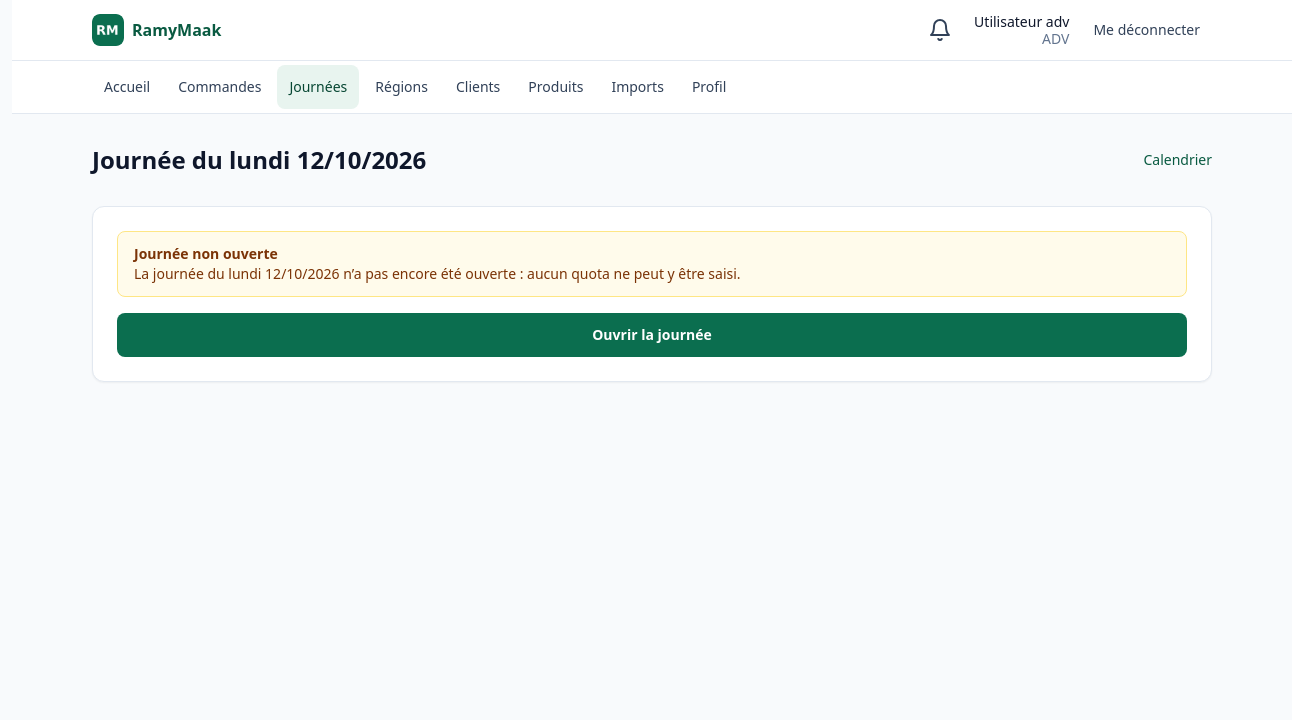
Test case: ADV — business day page › offers to open a day that is not opened yet, then shows its matrix
The width and height of the screenshot is (1292, 720).
Expected: the text "Journée non ouverte" is shown, [134,244,278,263]
Expected: the heading "Journée du lundi 12/10/2026" is shown, [92,144,426,176]
What coordinates should you click on to do the following:
click the button with aria-label "Ouvrir la journée du lundi 12/10/2026"
I would click on:
 (652, 335)
Its box is [117,313,1187,357].
(page scrolled)
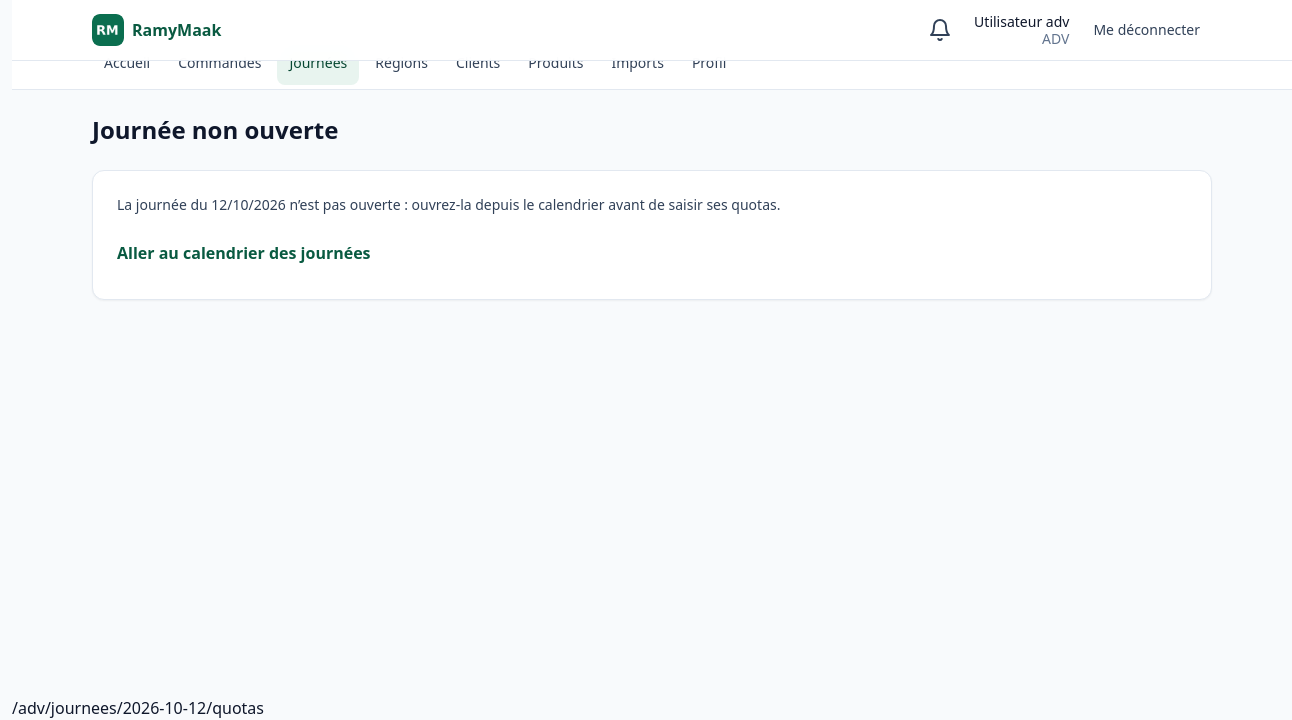
Result: the text with test id "location" reads "/adv/journees/2026-10-12/quotas" at [12,697,264,719]
